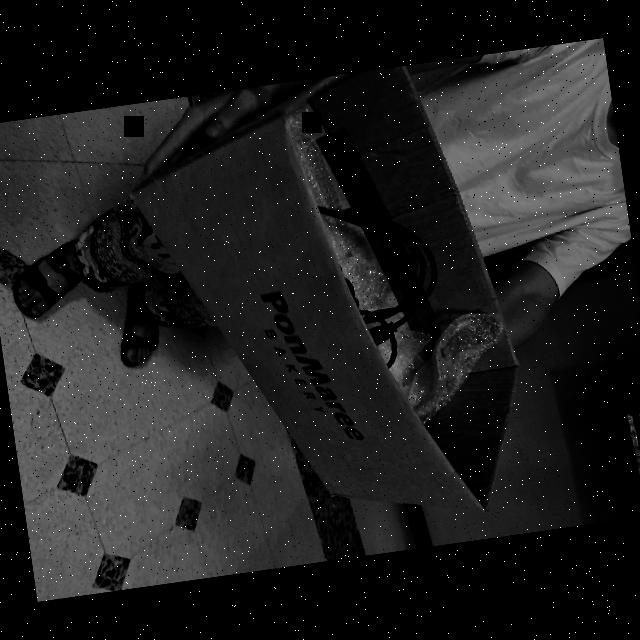cardboard_box: (122, 66, 531, 514)
